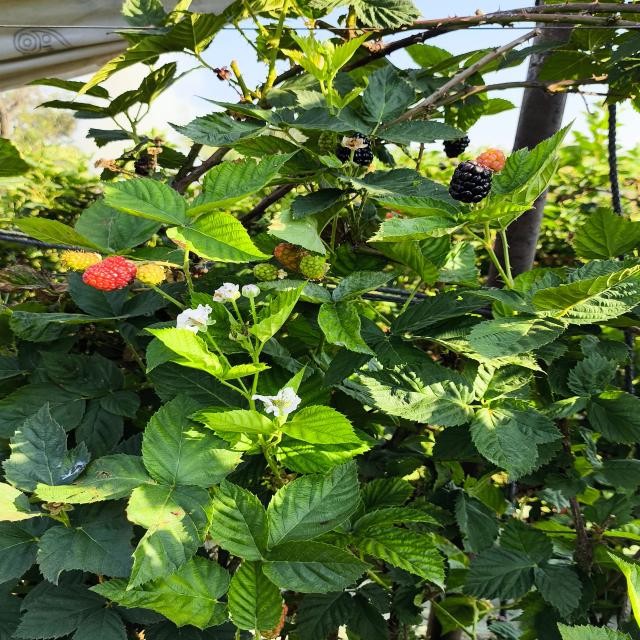boton: (242, 284, 260, 298)
flor: (252, 387, 301, 417), (177, 304, 215, 333), (214, 283, 240, 302)
maduro: (448, 161, 492, 203), (336, 133, 373, 166)
naranja: (83, 256, 136, 291), (274, 243, 309, 273), (476, 148, 506, 172)
verde: (60, 251, 102, 271), (299, 256, 330, 281), (136, 263, 166, 285), (253, 263, 278, 281), (318, 131, 335, 155)
